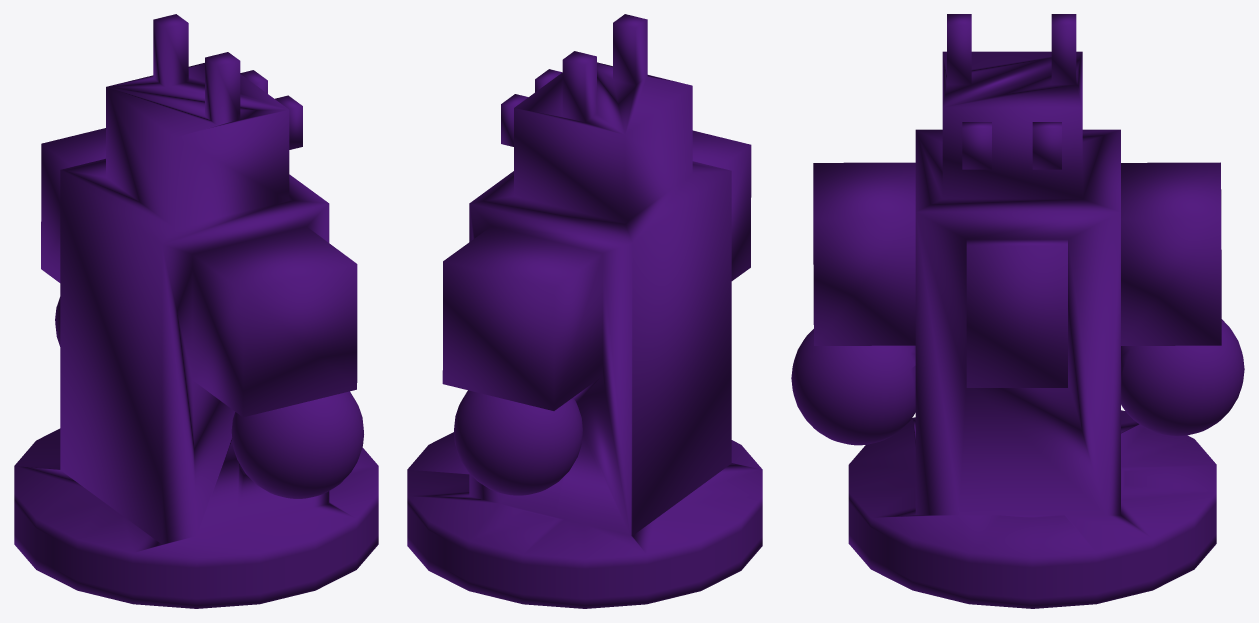
File: Gunther the Robot.obj
The picture shows the model from 3 angles, left to right: view 1: azimuth 30°, elevation 25°; view 2: azimuth 150°, elevation 25°; view 3: azimuth 270°, elevation 25°; orthographic projection. The views are drawn at different scales.
Parts seen in each view (by area): view 1: Cylinder028; view 2: Cylinder028; view 3: Cylinder028.
Part boxes in pixels (x1,y1,x2,y2): Cylinder028: (14,14,378,608); Cylinder028: (407,14,762,608); Cylinder028: (791,14,1244,608).
Bounding box in the file's own units: 20.67 × 30.85 × 25.07.
